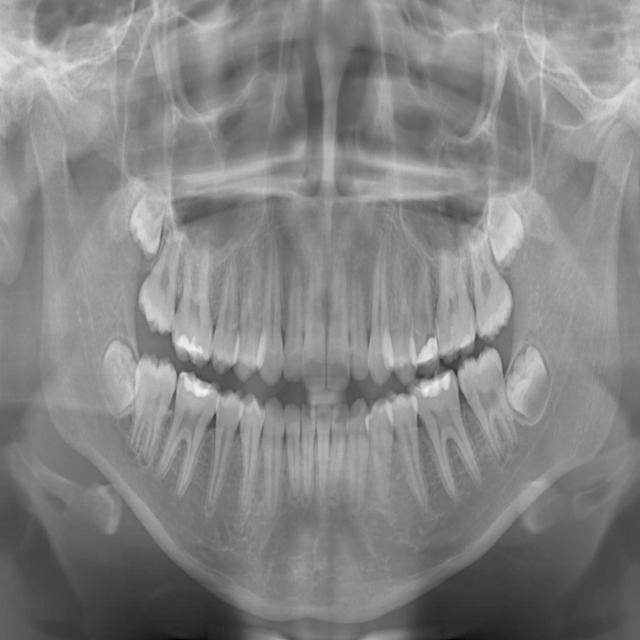3M ESPE Implant: (122, 182, 169, 262)
AGS Medikal Implant: (452, 342, 525, 471)
AMerOss Implant: (405, 363, 500, 505)
Amalgam filling: (133, 224, 186, 337)
Anthogyr Implant: (387, 386, 439, 526)
Bicon Implant: (370, 397, 393, 506)
BioHorizons Implant: (348, 397, 369, 517)
BioLife Implant: (327, 401, 349, 499)
Biomet 3i Implant: (317, 403, 331, 499)
Blue Sky Bio Implant: (302, 404, 317, 501)
Camlog Implant: (285, 403, 302, 499)
Caries: (344, 262, 371, 380)
Composite filling: (258, 396, 286, 520)
Cowellmedi Implant: (228, 392, 266, 514)
Crown: (197, 385, 245, 515)
DENTSPLY Implant: (168, 241, 224, 369)
Dentatus Implant: (144, 369, 224, 503)
Dentis Implant: (126, 351, 179, 467)
Dentium Implant: (97, 338, 137, 416)
Euroteknika Implant: (209, 259, 244, 376)
Filling: (232, 256, 263, 384)
Frontier Implant: (259, 225, 282, 386)
Hiossen Implant: (369, 233, 393, 386)
Implant: (302, 253, 326, 391)
Implant Direct: (284, 257, 303, 381)
Keystone Dental Implant: (327, 255, 352, 390)
MIS Implant: (391, 267, 417, 385)
Mandible: (410, 254, 440, 373)
Maxilla: (427, 239, 478, 363)
Megagen Implant: (476, 316, 476, 317)
Neodent Implant: (484, 191, 529, 271)
Neoss Implant: (496, 341, 564, 425)
